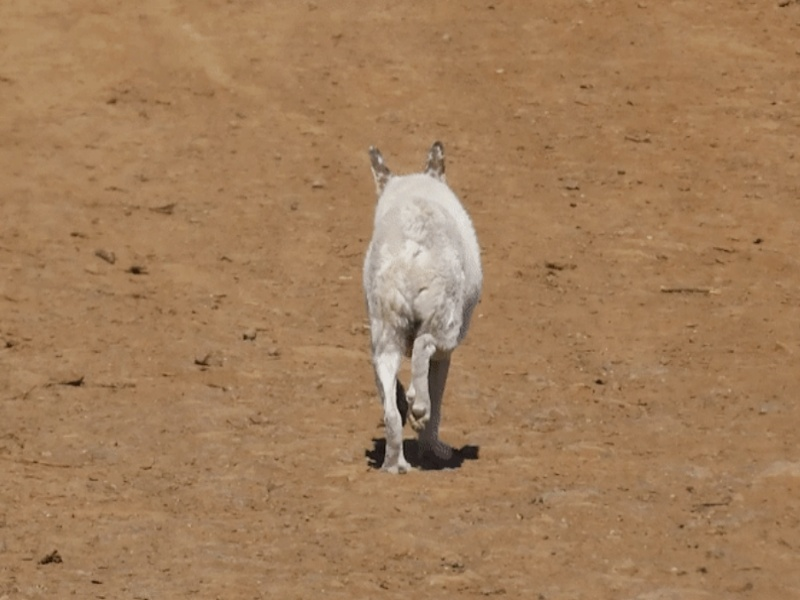dog: (351, 140, 479, 469)
